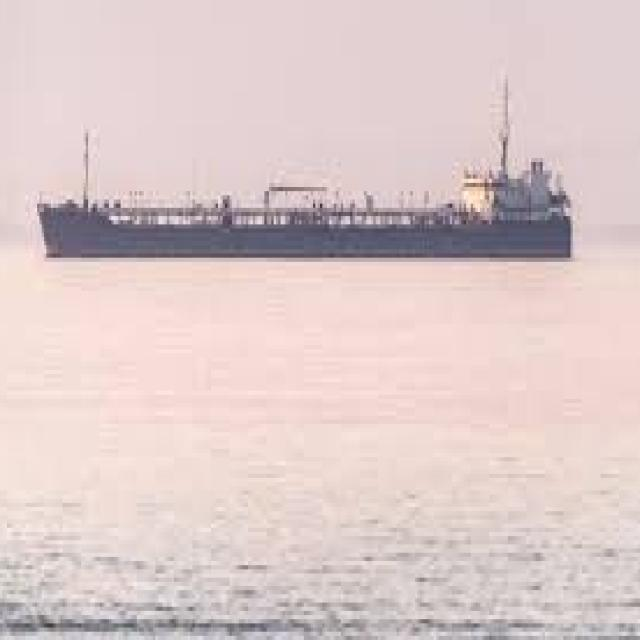cargoship: (34, 75, 576, 259)
